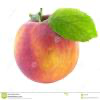Peach leaf: (48, 6, 99, 43)
